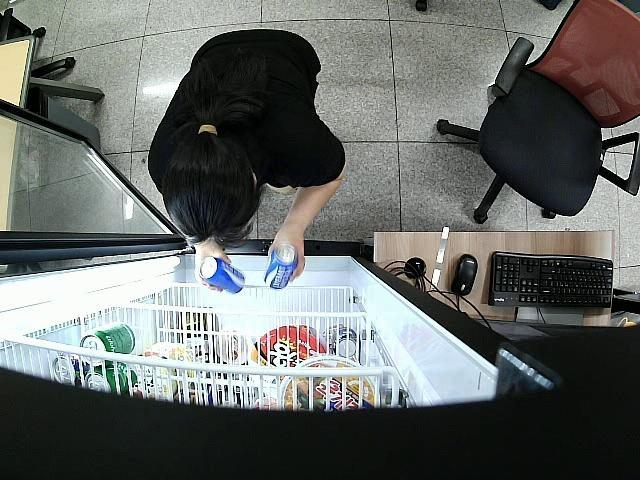13_pocariSweat: (200, 255, 246, 294), (262, 246, 298, 288)
